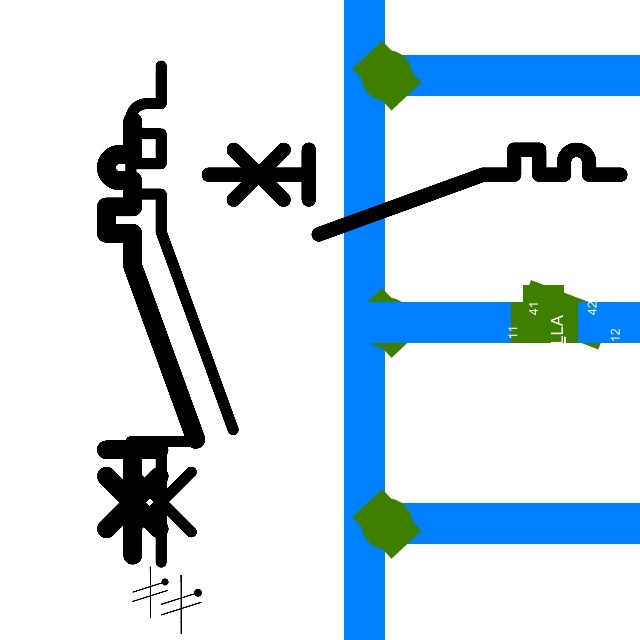interruptor_termomagnetico: (118, 53, 245, 574), (95, 110, 206, 566), (198, 139, 631, 245)
